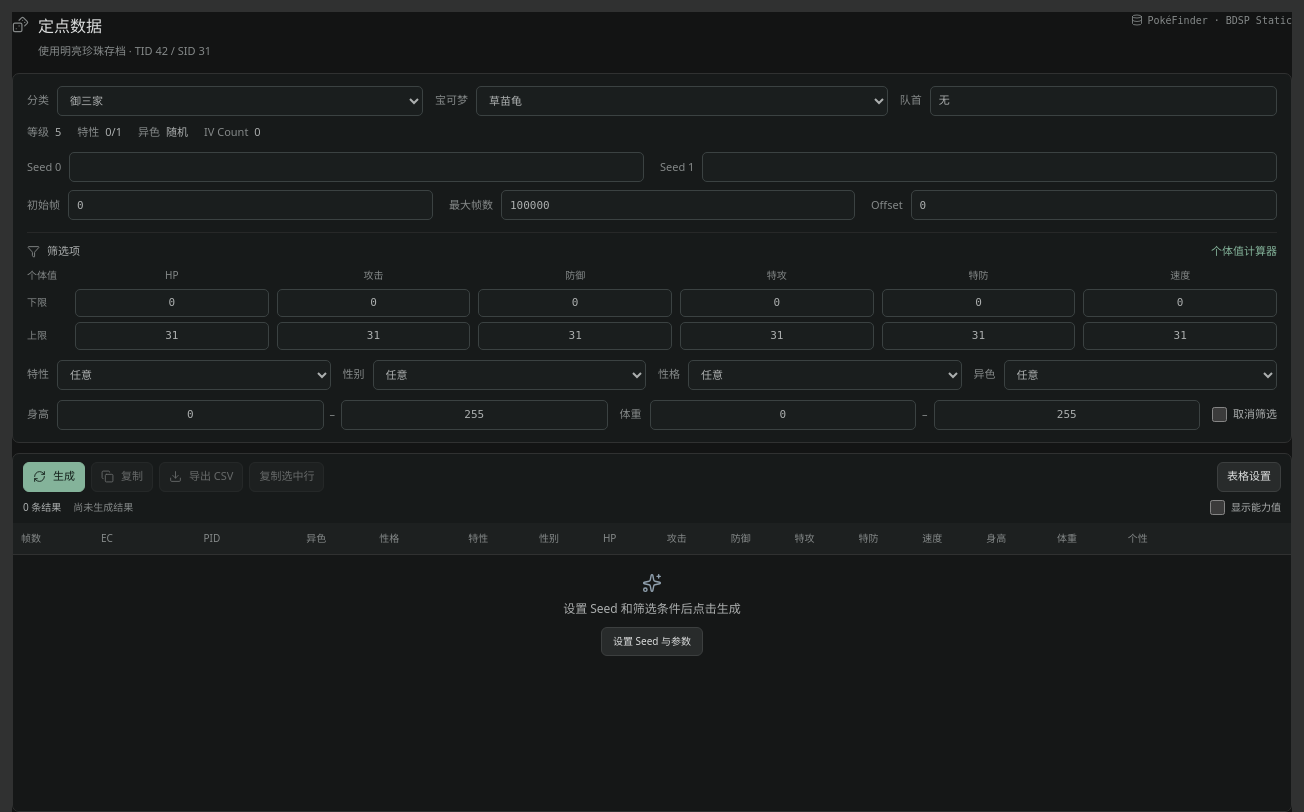
uses the original lead menu hierarchy with all 25 natures and both Cute Charm genders
Type "FFFFFFFFFFFFFFFF" into the field labelled "Seed 0" at (357, 167), box [69, 152, 644, 182]
Type "0123456789ABCDEF" into the field labelled "Seed 1" at (990, 167), box [702, 152, 1277, 182]
Click the button named "队首" at (944, 100), box [930, 86, 1277, 116]
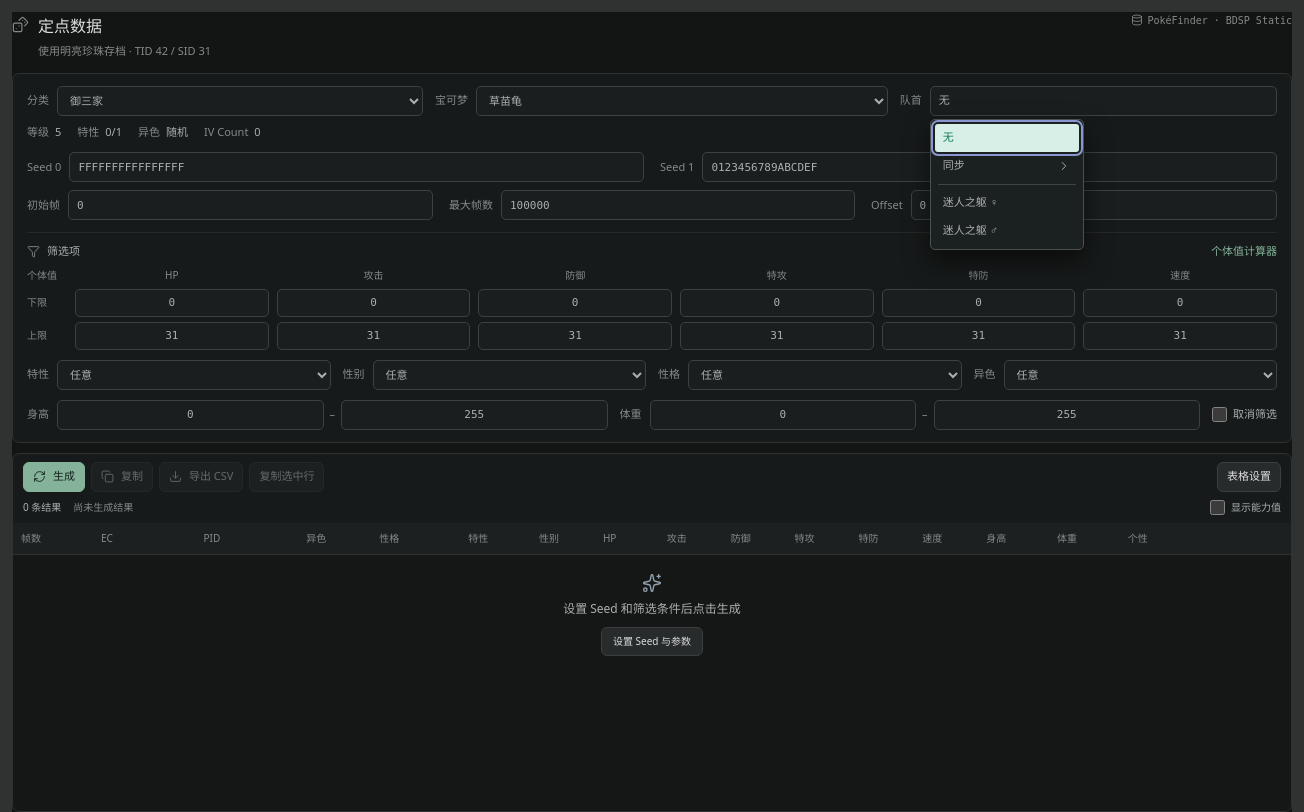
Expected: the menu item "迷人之躯 ♀" is shown, [935, 188, 1079, 216]
Expected: the menu item "迷人之躯 ♂" is shown, [935, 216, 1079, 244]
Click the menu item "同步" at (1007, 166), box [935, 152, 1079, 180]
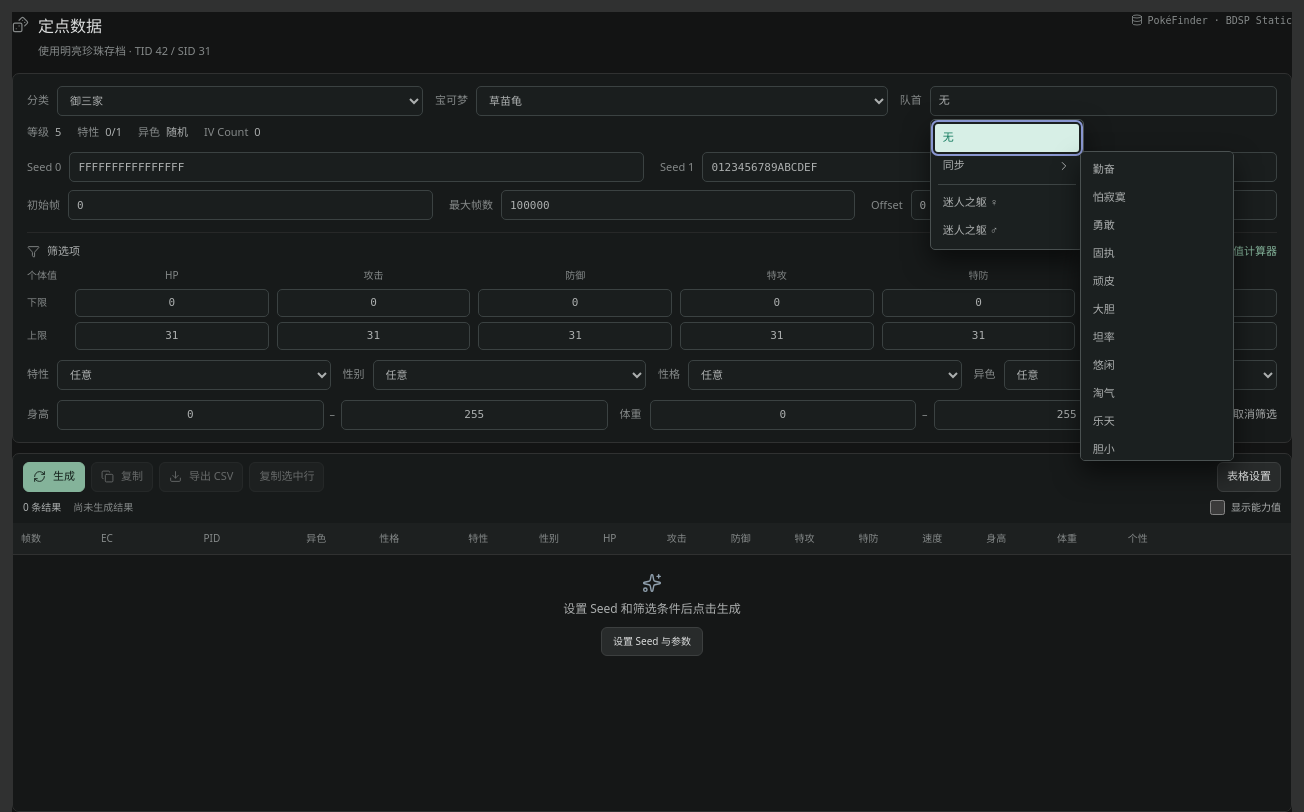
Click the menu item "固执" at (1157, 254), box [1085, 240, 1229, 268]
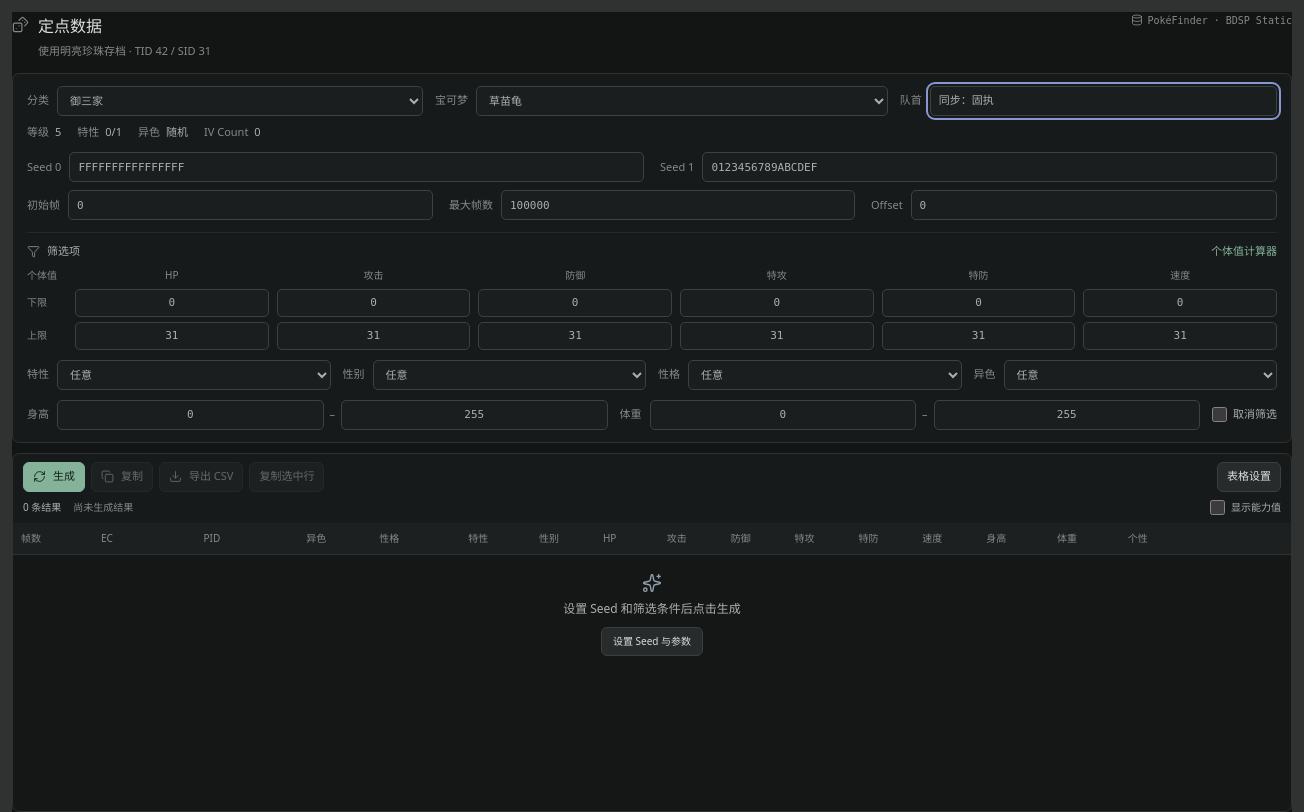
Expected: the button with aria-label "队首" reads "同步：固执", [930, 86, 1277, 116]
Click the button "生成" at (54, 476), box [23, 462, 85, 492]
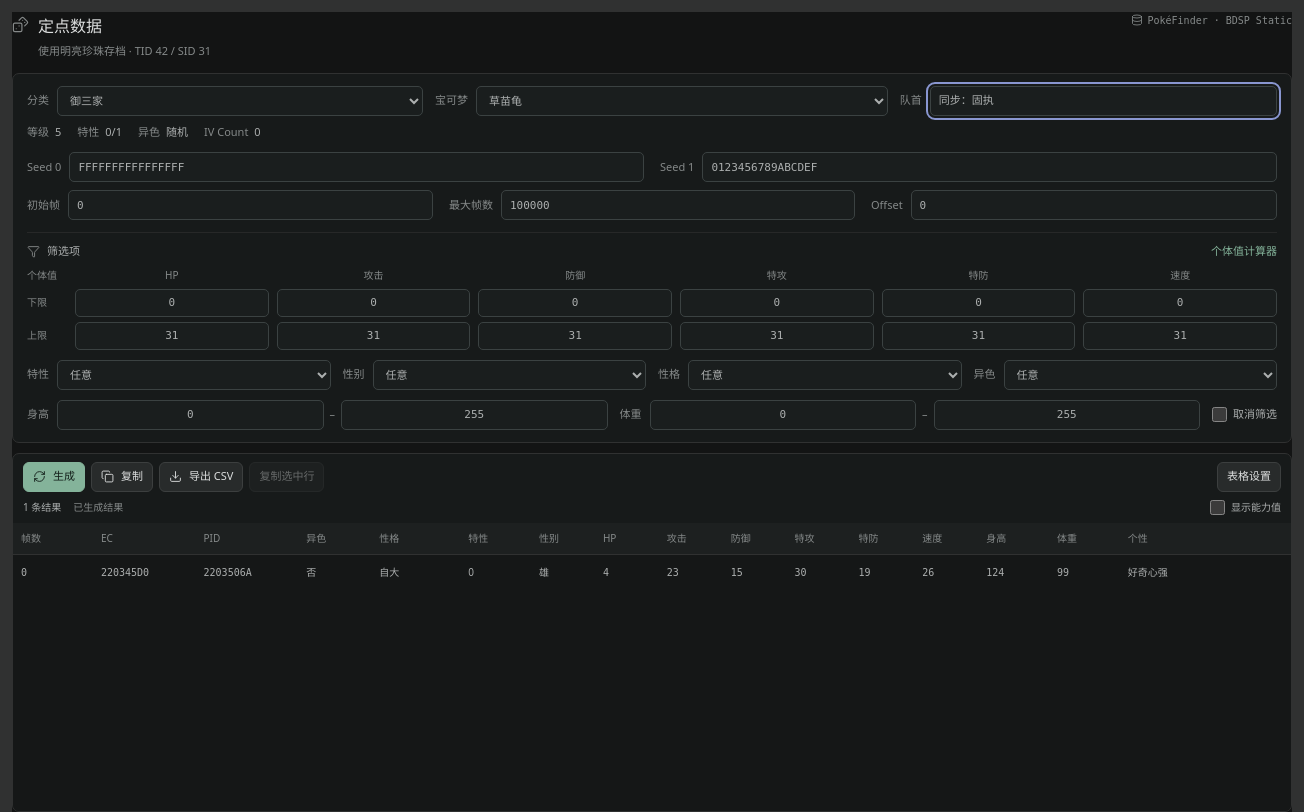
Expected: the text "已生成结果" is shown, [73, 500, 123, 514]
Click the button with aria-label "队首" at (966, 100), box [930, 86, 1277, 116]
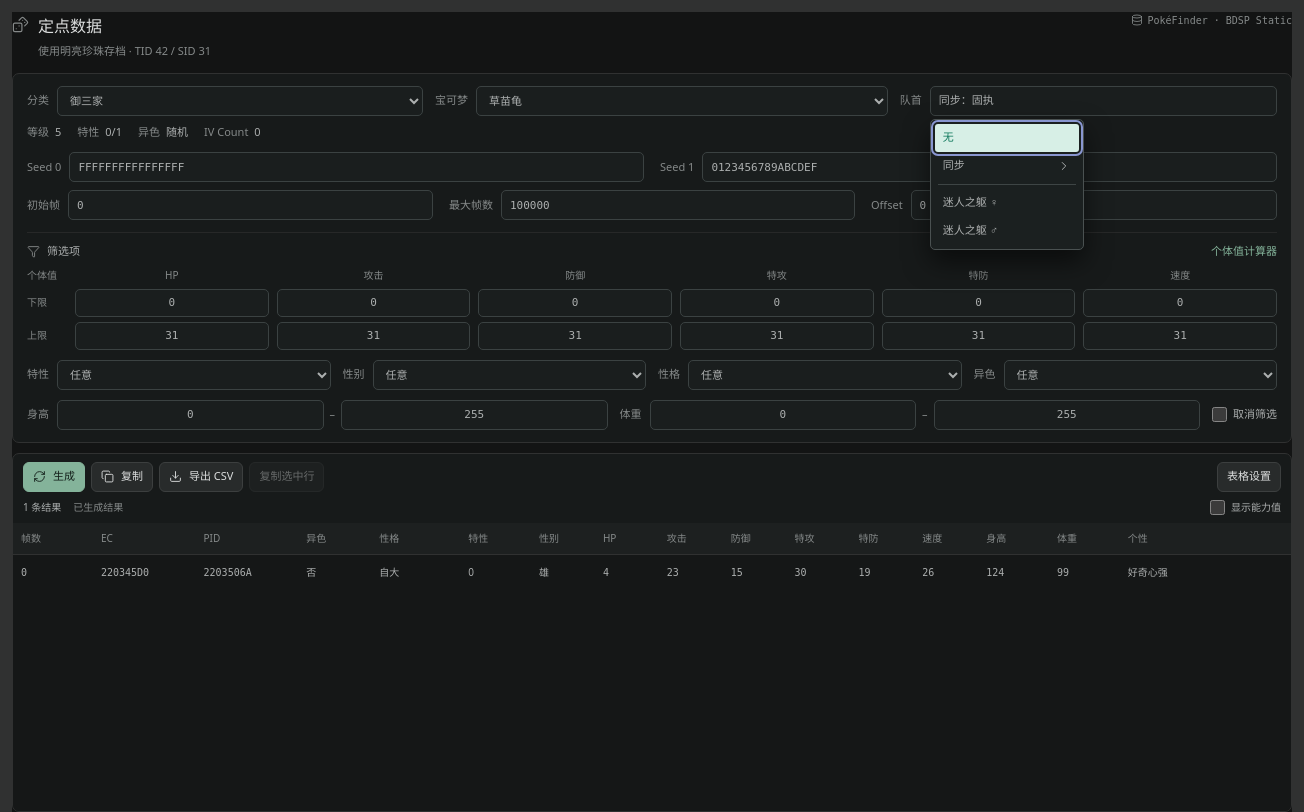
Press Escape in the menu item "无", box [935, 124, 1079, 152]
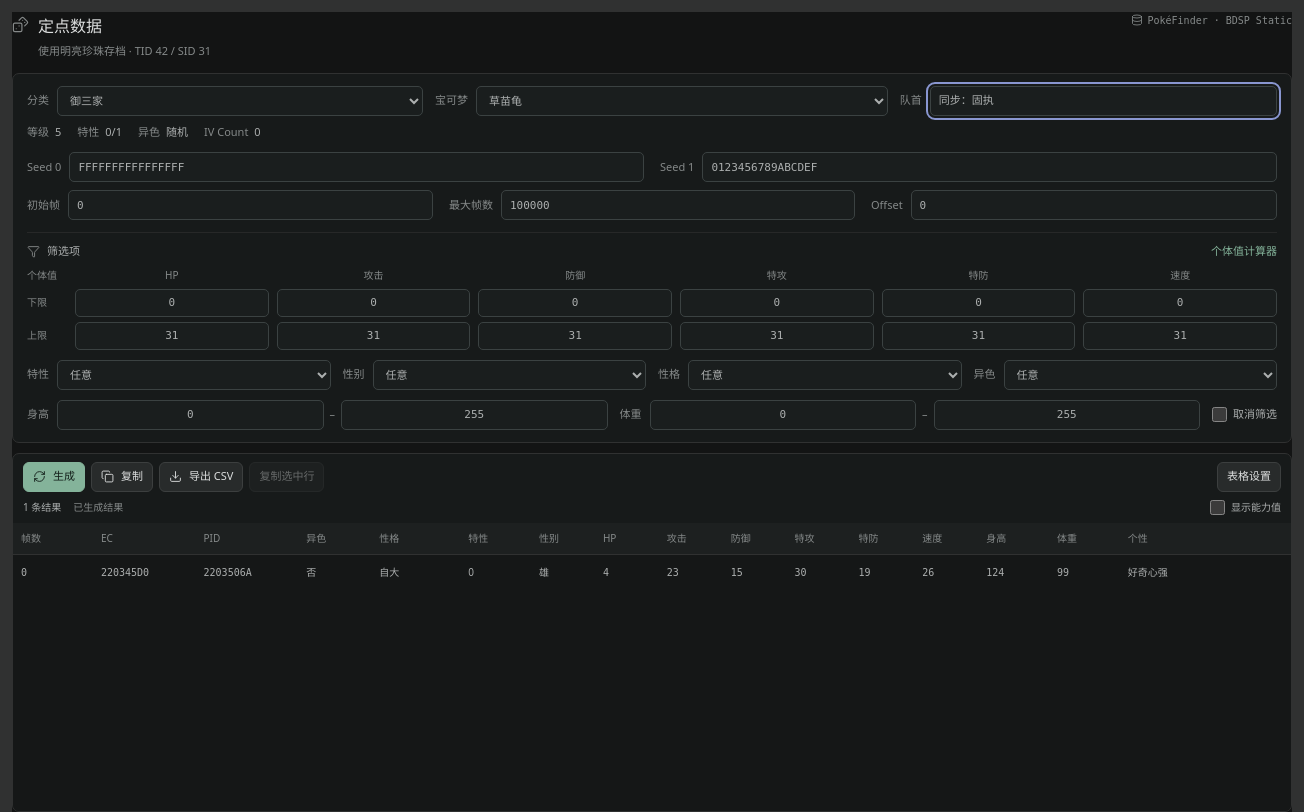
Expected: the menu is gone
